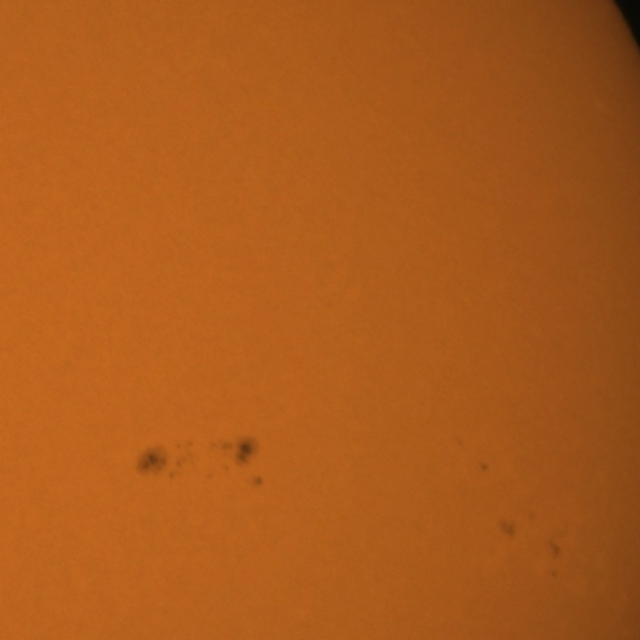sunspot: (138, 444, 188, 482), (206, 438, 256, 472), (497, 518, 518, 540), (548, 540, 563, 570), (250, 473, 265, 490), (478, 461, 490, 475)
